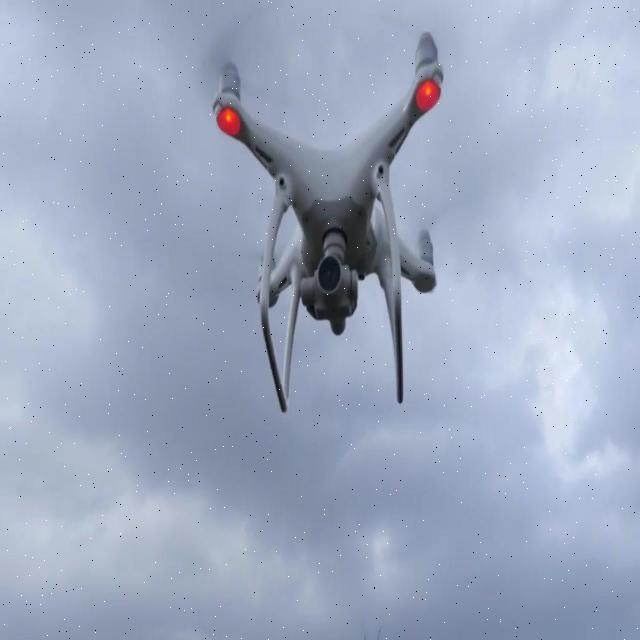UAV: (211, 28, 445, 414)
